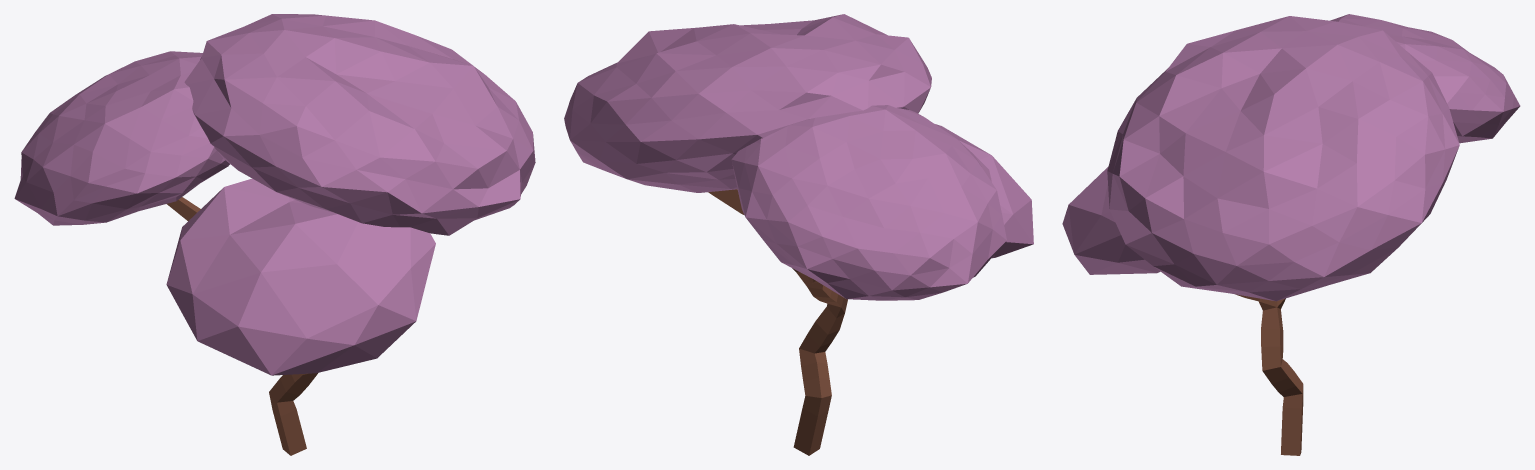
The model's file is Big_Tree.fbx.
3 views of the same model, side by side, from view 1: azimuth 30°, elevation 25°; view 2: azimuth 150°, elevation 25°; view 3: azimuth 270°, elevation 25° (orthographic). The views are drawn at different scales.
Visible parts, largest first — view 1: Cylinder; view 2: Cylinder; view 3: Cylinder.
Part boxes in pixels (left/top/right/bottom): Cylinder: left=14, top=14, right=535, bottom=455; Cylinder: left=564, top=14, right=1033, bottom=455; Cylinder: left=1062, top=14, right=1520, bottom=455.
Size of the model in its own units: 4994 by 4397 by 4375.
